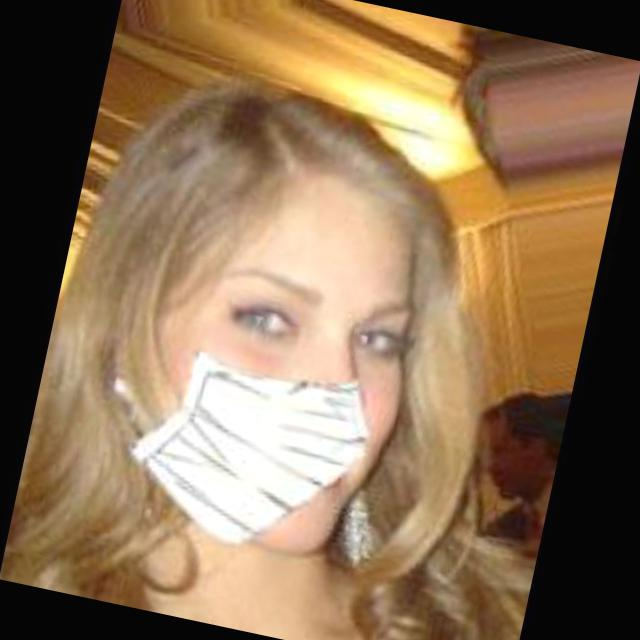suspicion: (73, 60, 494, 588)
